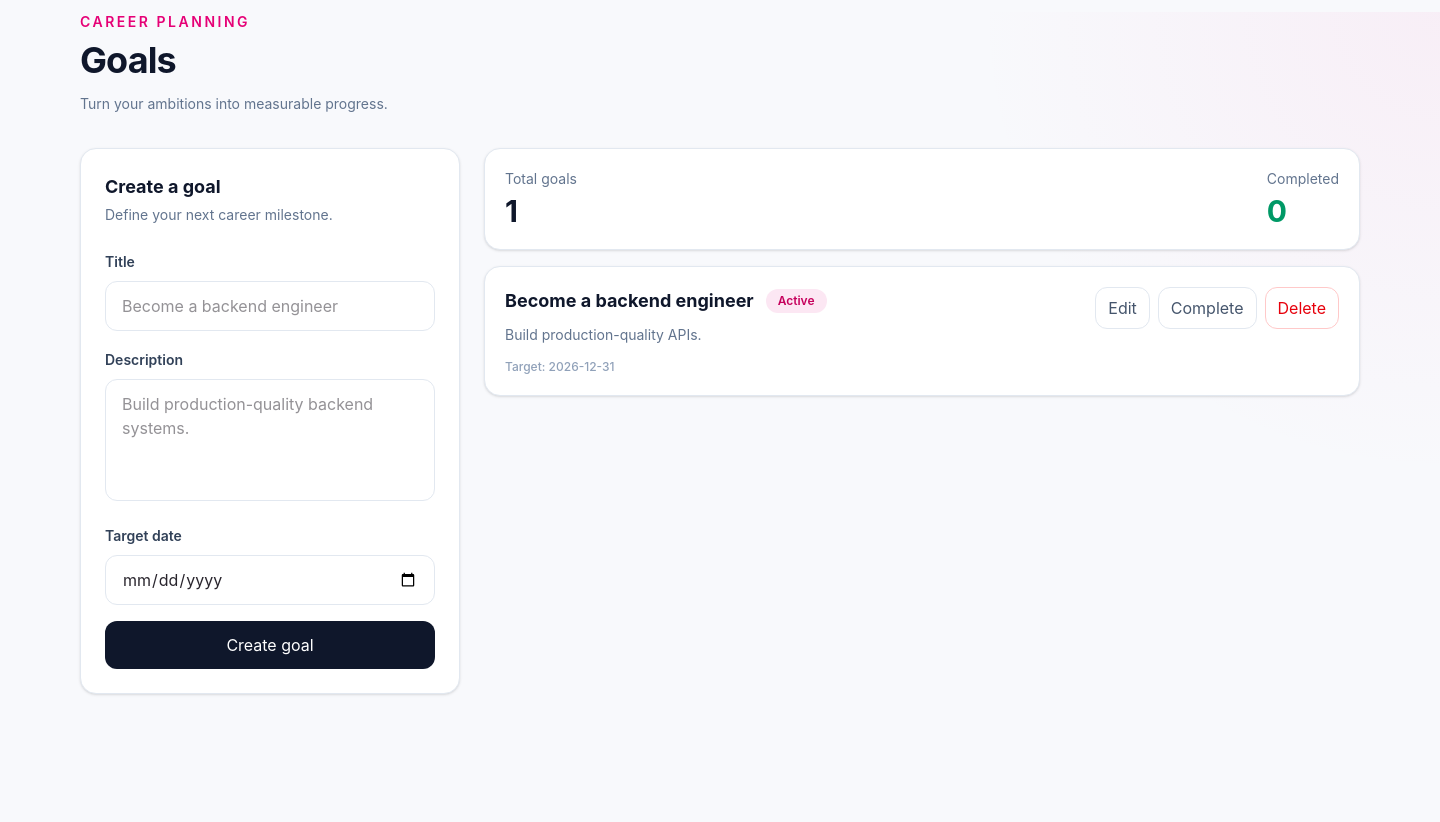
Scenario: Goals › edits a goal successfully
Check: the heading "Become a backend engineer" is shown, box [505,287,754,315]
Click the button "Edit".
click(1123, 308)  # box [1095,287,1150,329]
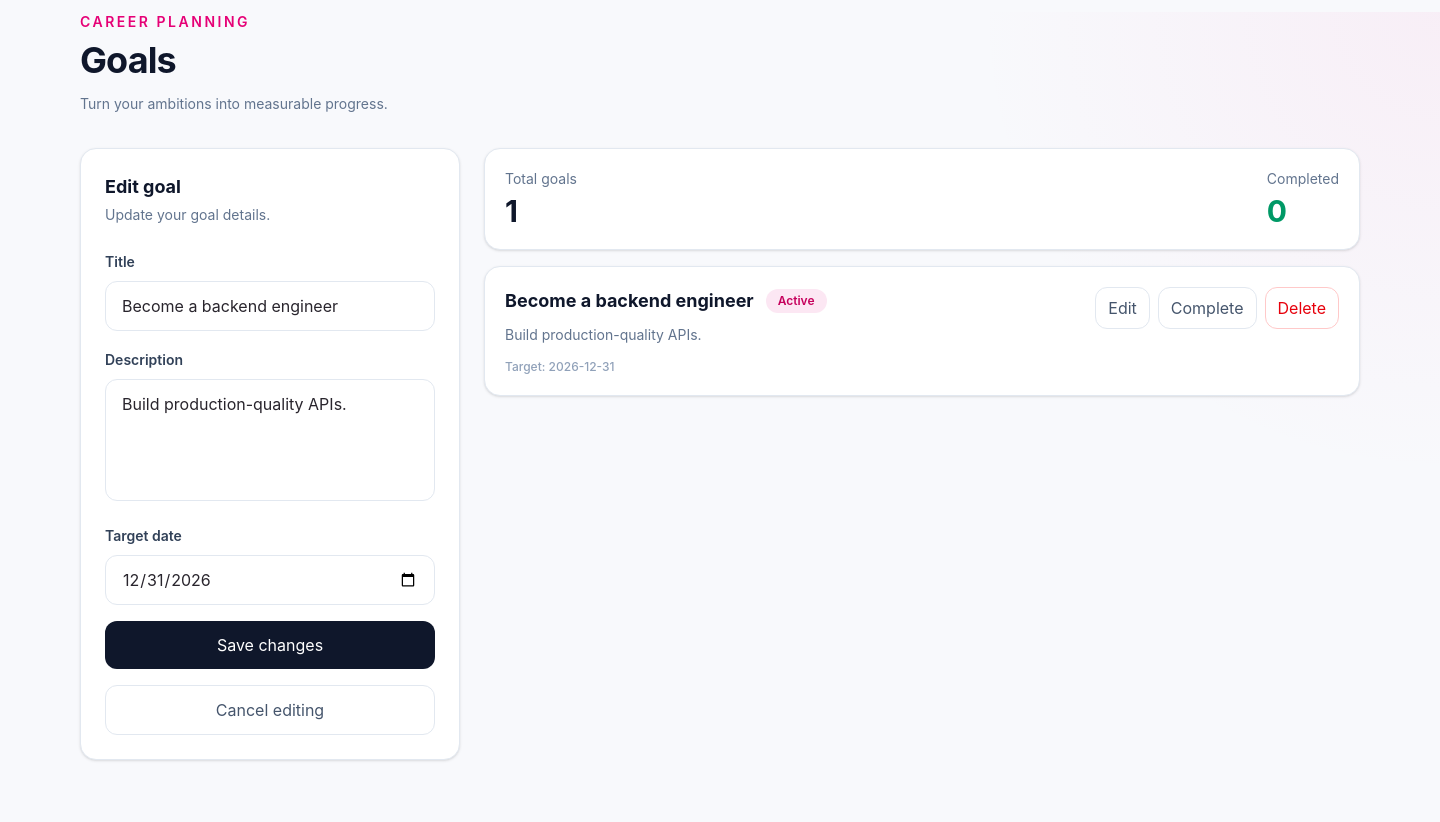
Type "Senior backend engineer" into the field labelled "Title".
click(270, 306); type("Senior backend engineer")  # box [105,281,435,331]
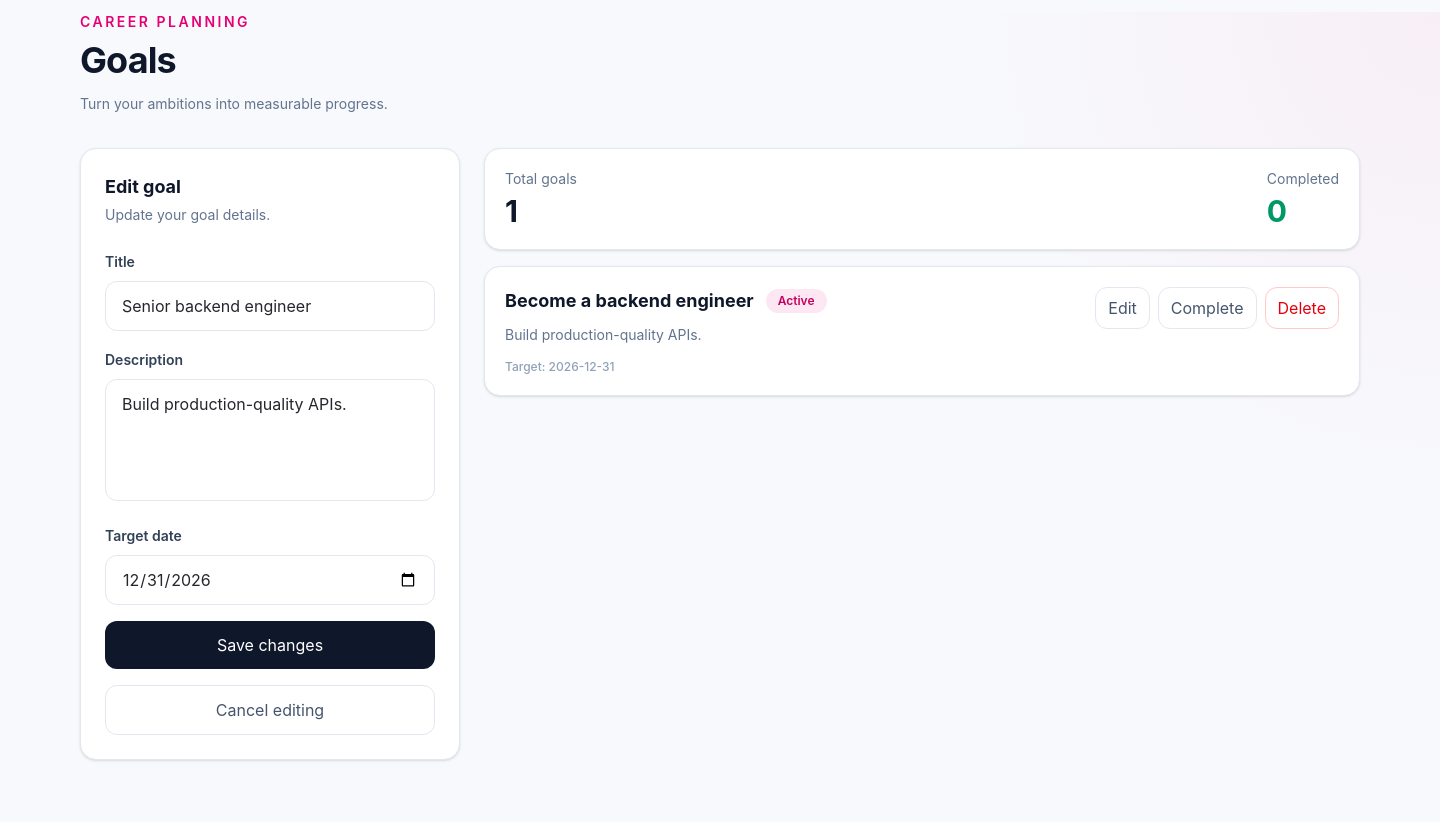
Click the button "Save changes".
click(270, 645)  # box [105,621,435,669]
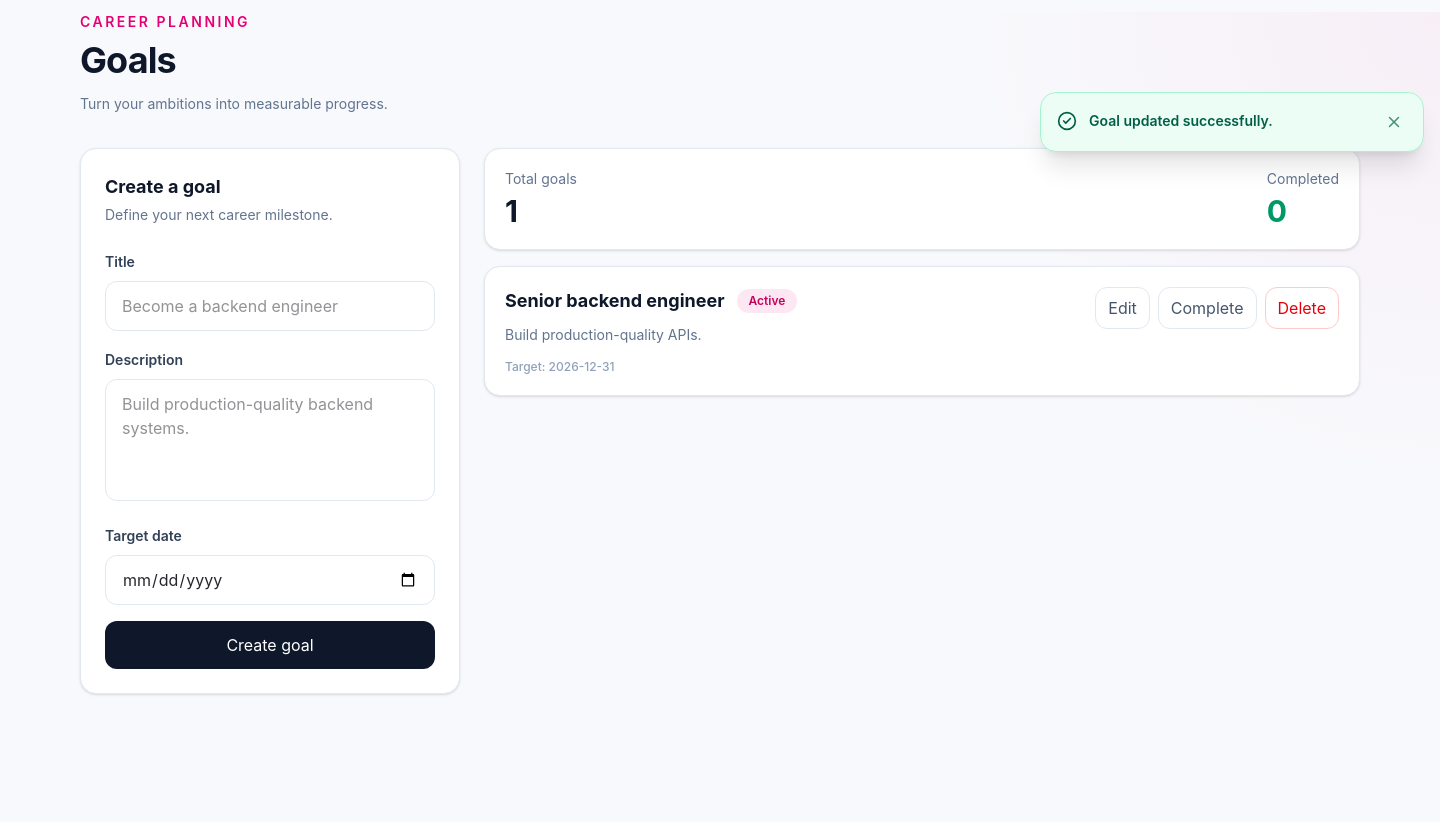
Check: the heading "Senior backend engineer" is shown, box [505,287,724,315]
